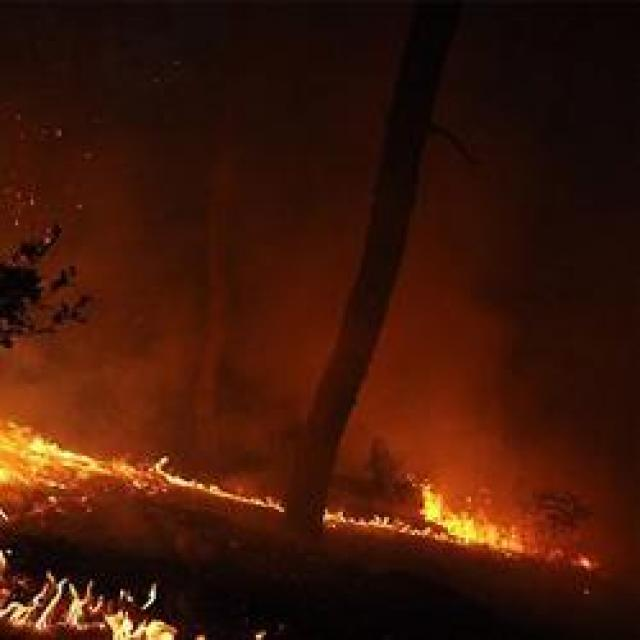fire: (0, 555, 179, 640), (0, 417, 156, 497), (420, 475, 524, 564)
smoke: (408, 264, 534, 452), (3, 336, 194, 424)
